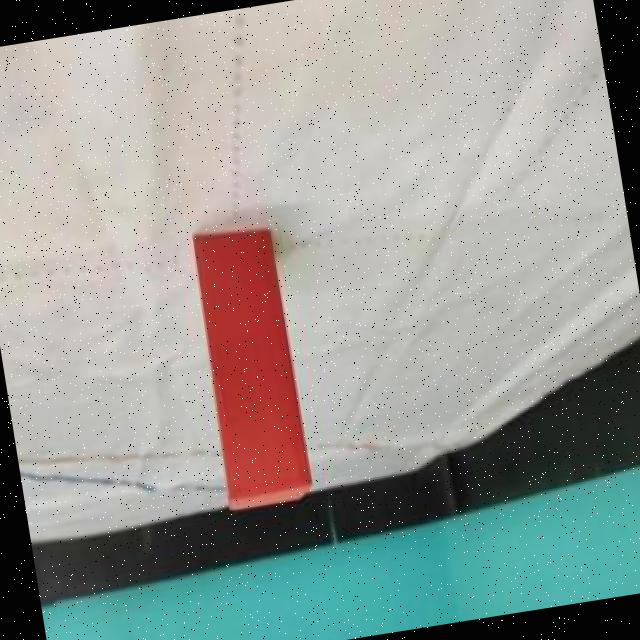redbox: (190, 225, 316, 510)
